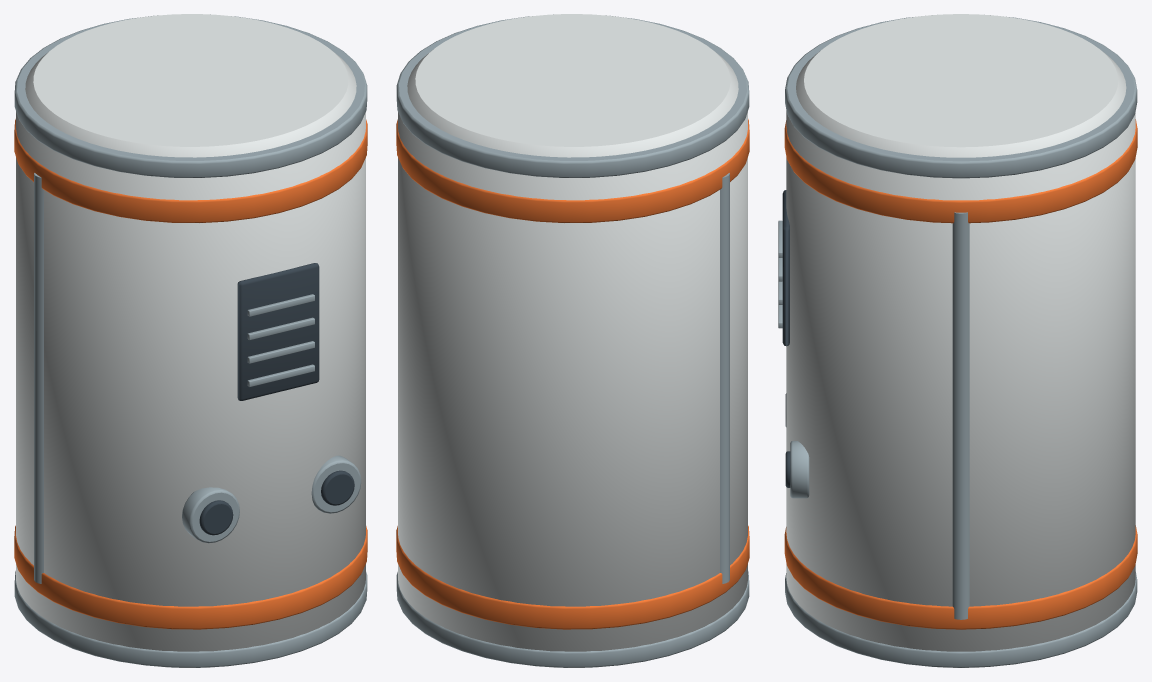
The model's file is tank.glb.
The picture shows the model from 3 angles, left to right: view 1: azimuth 30°, elevation 25°; view 2: azimuth 150°, elevation 25°; view 3: azimuth 270°, elevation 25°; orthographic projection.
Parts seen in each view (by area): view 1: Cryogenic vessel; view 2: Cryogenic vessel; view 3: Cryogenic vessel.
Boxes of the visible parts, x1,y1,x2,y2 form: Cryogenic vessel: [14, 14, 367, 667]; Cryogenic vessel: [396, 14, 749, 667]; Cryogenic vessel: [778, 14, 1137, 667].
Bounding box in the file's own units: 1.25 × 2 × 1.25.
